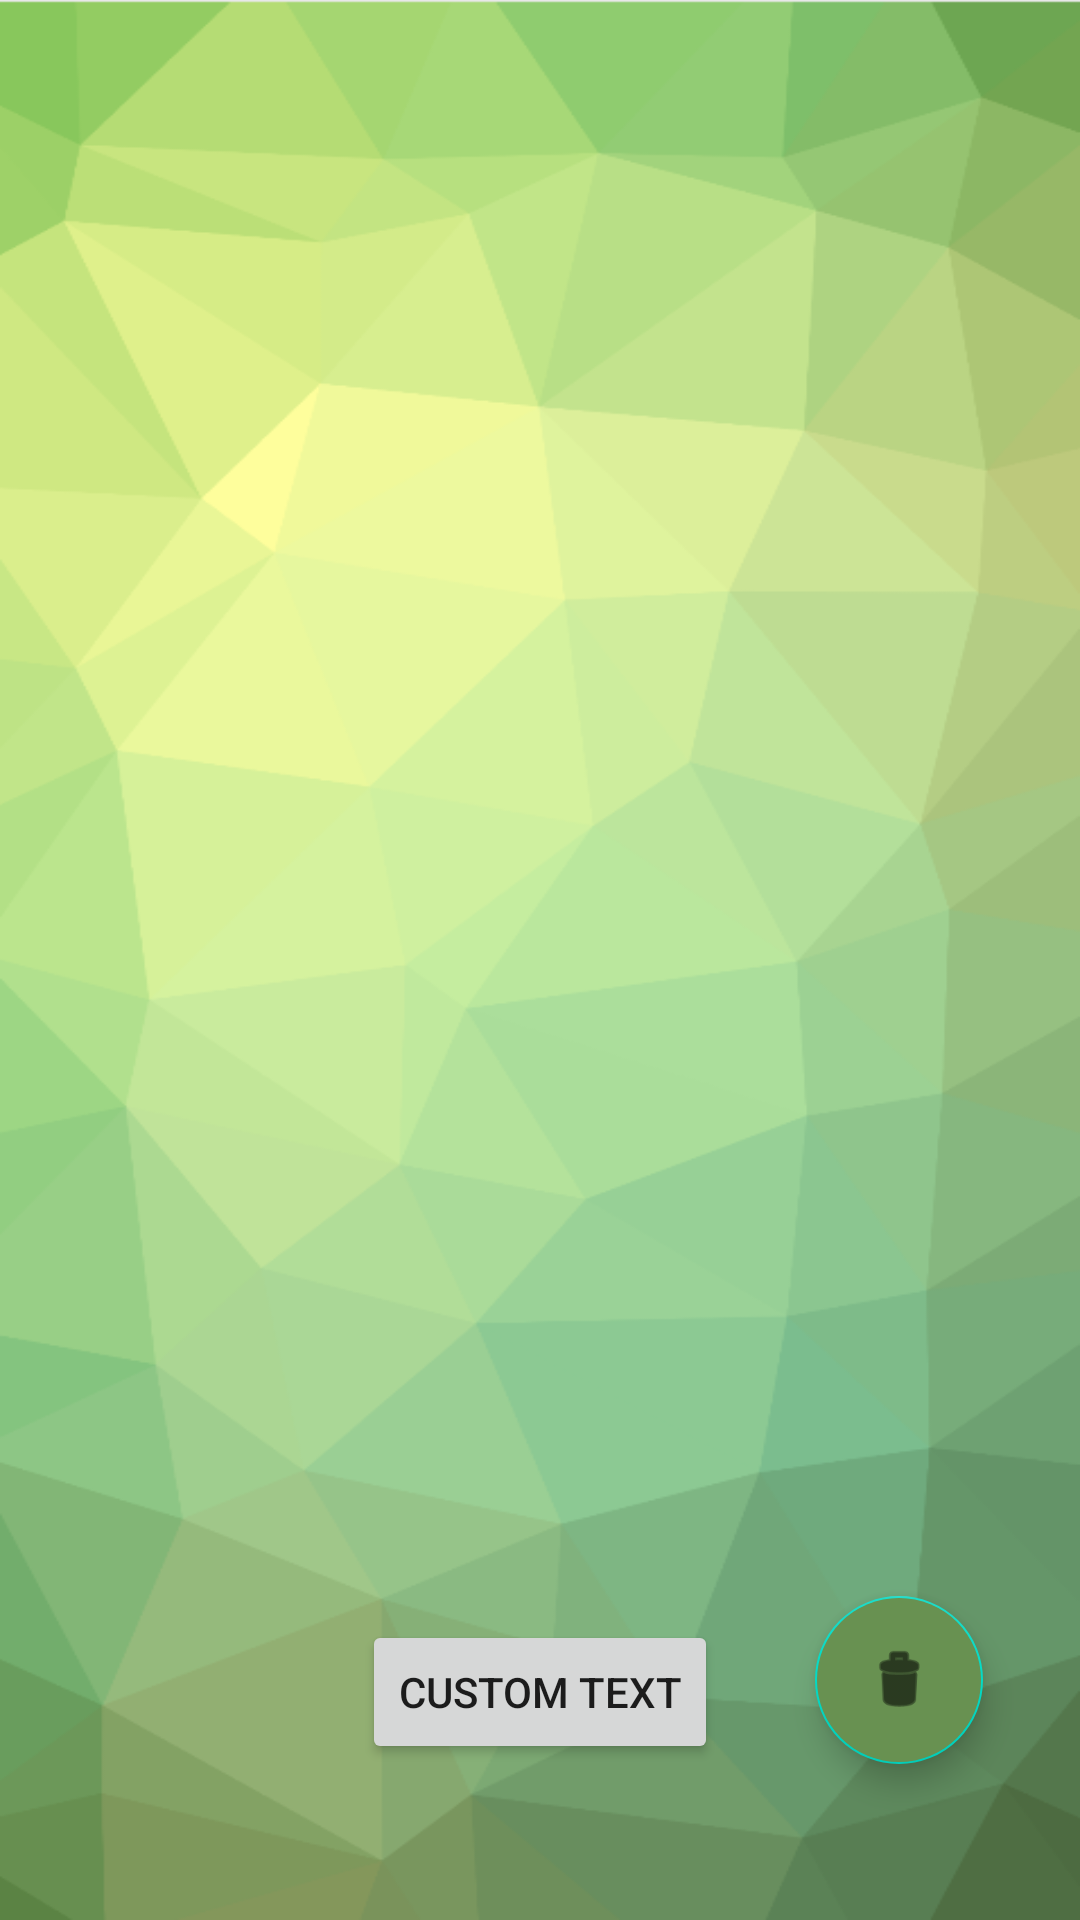

Named icons in this screenshot (1080x1920) and their centers, [x,y]:
delete: [899,1680]
